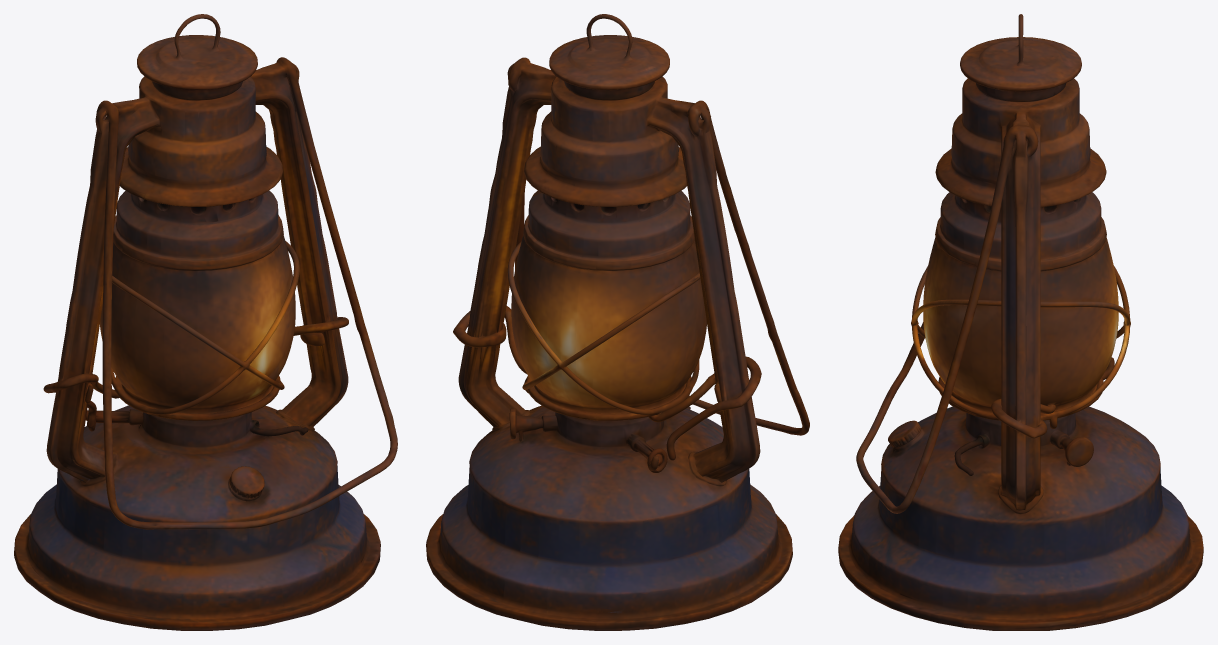
The model's file is lantern.glb.
3 renders of one model, left to right at view 1: azimuth 30°, elevation 25°; view 2: azimuth 150°, elevation 25°; view 3: azimuth 270°, elevation 25°, orthographic.
Visible parts, largest first — view 1: material; view 2: material; view 3: material.
Part boxes in pixels (bbox=[...]): material: bbox=[14, 14, 397, 630]; material: bbox=[426, 14, 809, 630]; material: bbox=[838, 14, 1203, 630].
Bounding box in the file's own units: 0.6303 × 1.02 × 0.6299.
Materials: 1 (1 with a texture image).
